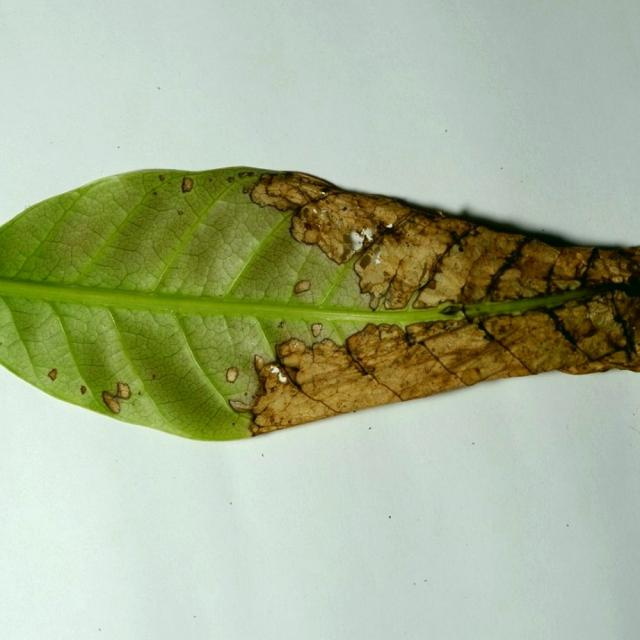Anthracnose: (254, 330, 401, 425), (280, 184, 413, 269), (398, 322, 508, 388), (414, 230, 504, 307), (367, 224, 454, 303), (479, 309, 576, 378), (548, 292, 635, 368), (493, 239, 562, 301), (574, 246, 637, 289), (551, 245, 599, 286), (369, 336, 408, 370), (257, 386, 297, 417), (309, 338, 351, 367), (248, 178, 287, 208), (259, 359, 292, 393), (276, 337, 307, 361), (221, 365, 241, 389), (101, 390, 120, 413), (365, 246, 383, 268), (228, 398, 253, 413), (349, 232, 365, 251), (293, 279, 311, 294), (225, 366, 240, 383), (116, 382, 131, 399), (254, 354, 267, 373), (303, 229, 319, 244), (180, 176, 194, 193), (384, 295, 398, 310), (310, 322, 323, 338), (315, 207, 329, 221), (360, 228, 374, 242), (357, 256, 371, 270), (368, 295, 381, 309), (339, 248, 351, 262), (342, 232, 354, 245), (47, 368, 58, 381), (290, 339, 302, 350), (270, 366, 280, 377), (277, 373, 286, 383), (374, 254, 382, 265), (435, 210, 445, 217), (385, 222, 393, 229), (312, 207, 318, 215), (318, 190, 326, 196), (341, 206, 348, 211)
Mango: (0, 167, 639, 444)
